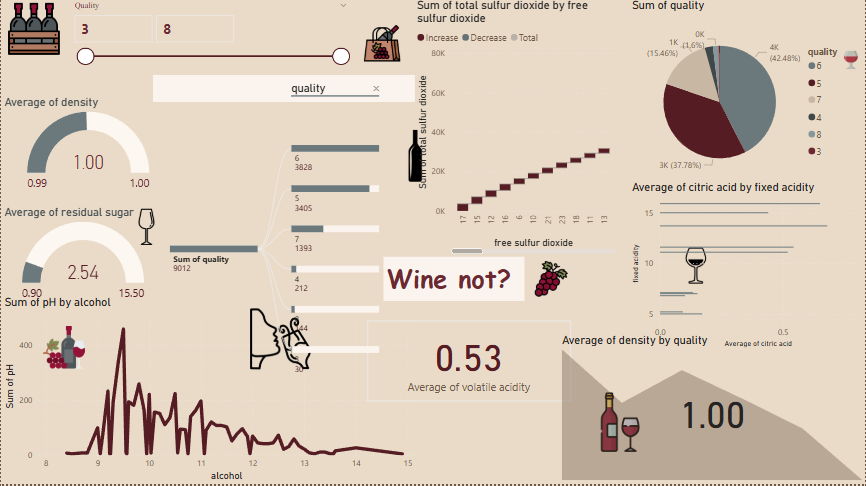

Layout of this report page (visuals, bound fields, positions):
{"tool":"powerbi","page":{"name":"Page 1","canvas":[1280,720],"ordinal":0},"visuals":[{"type":"lineChart","fields":{"Category":["wine.alcohol"],"Y":["Sum(wine.pH)"]},"box":[0,440.5,617.5,279.9],"z":0},{"type":"slicer","fields":{"Values":["wine.quality"]},"box":[96.5,0,428.2,115.3],"z":1000},{"type":"card","fields":{"Values":["Avg(wine.volatile acidity)"]},"box":[543.3,477.9,300.9,120.6],"z":2000},{"type":"textbox","box":[566.7,384.2,208.6,65.9],"z":3000},{"type":"image","box":[775.3,384.2,78.2,65.9],"z":4000},{"type":"image","box":[0,0,97,91],"z":5000},{"type":"image","box":[868.6,580.4,97.4,97.4],"z":6000},{"type":"gauge","title":"Average of density","fields":{"Y":["Avg(wine.density)"],"MinValue":["Min(wine.density)"],"MaxValue":["Max(wine.density)"]},"box":[0,145,258.8,151.2],"z":7000},{"type":"gauge","title":"Average of residual sugar","fields":{"Y":["Avg(wine.residual sugar)"],"MinValue":["Min(wine.residual sugar)"],"MaxValue":["Max(wine.residual sugar)"]},"box":[0,307.5,243.8,151.2],"z":8000},{"type":"pieChart","title":"Sum of quality ","fields":{"Category":["wine.quality"],"Y":["Sum(wine.quality)"]},"box":[928.7,0,332.5,289.7],"z":9000},{"type":"kpi","fields":{"Indicator":["Avg(wine.density)"],"TrendLine":["wine.quality"]},"box":[825.1,497.1,455.4,223.2],"z":10000},{"type":"image","box":[569.5,172.9,86.4,123.5],"z":11000},{"type":"image","box":[349.9,454.2,127.6,102.9],"z":12000},{"type":"image","box":[140,307.4,149.6,63.1],"z":13000},{"type":"image","box":[972.5,365,115,63.8],"z":14000},{"type":"decompositionTreeVisual","fields":{"Analyze":["Sum(wine.quality)"],"ExplainBy":["wine.quality"]},"box":[219.6,109.8,397.9,520.1],"z":15000},{"type":"clusteredBarChart","fields":{"Y":["Avg(wine.citric acid)"],"Category":["wine.fixed acidity"]},"box":[929,270.3,351.3,252.5],"z":16000},{"type":"waterfallChart","fields":{"Category":["wine.free sulfur dioxide"],"Y":["Sum(wine.total sulfur dioxide)"]},"box":[612,0,304.6,384.2],"z":17000},{"type":"image","box":[52.1,477.5,83.7,79.6],"z":18000},{"type":"image","box":[516,32.9,96.1,67.2],"z":19000},{"type":"image","box":[1237.6,67.1,42.4,48.2],"z":20000}]}

Visuals, with their boxes in screenshot pixels (x1, y1, x2, y2), scaled from the page's 1280x720 canvas onto the 866x486 screenshot:
lineChart - wine.alcohol x Sum(wine.pH): box(0, 297, 418, 485)
slicer - wine.quality: box(65, 0, 355, 78)
card - Avg(wine.volatile acidity): box(368, 323, 571, 404)
textbox: box(383, 259, 525, 304)
image: box(525, 259, 577, 304)
image: box(0, 0, 66, 61)
image: box(588, 392, 654, 458)
"Average of density" gauge: box(0, 98, 175, 200)
"Average of residual sugar" gauge: box(0, 208, 165, 310)
"Sum of quality " pieChart: box(628, 0, 853, 196)
kpi - Avg(wine.density) x wine.quality: box(558, 336, 865, 485)
image: box(385, 117, 444, 200)
image: box(237, 307, 323, 376)
image: box(95, 207, 196, 250)
image: box(658, 246, 736, 289)
decompositionTreeVisual - Sum(wine.quality) x wine.quality: box(149, 74, 418, 425)
clusteredBarChart - Avg(wine.citric acid) x wine.fixed acidity: box(629, 182, 865, 353)
waterfallChart - wine.free sulfur dioxide x Sum(wine.total sulfur dioxide): box(414, 0, 620, 259)
image: box(35, 322, 92, 376)
image: box(349, 22, 414, 68)
image: box(837, 45, 865, 78)
